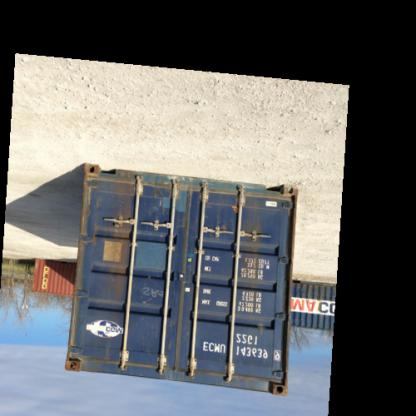Damage: (108, 188, 134, 300), (240, 217, 264, 322), (147, 178, 189, 226), (138, 280, 168, 310), (70, 356, 86, 378)
